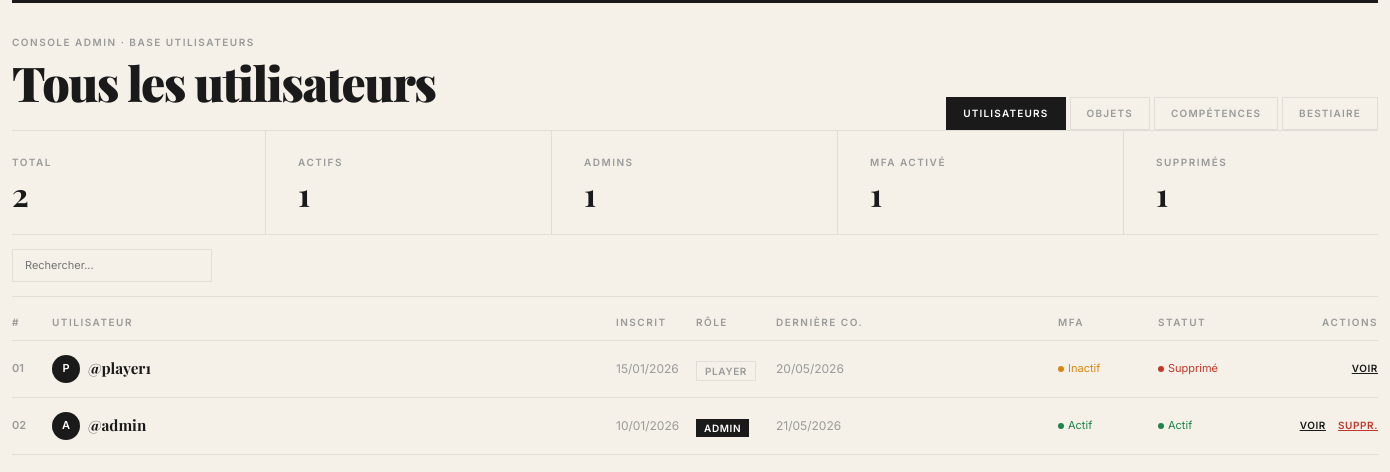
AdminUsersView › affiche 'Aucun résultat' quand le filtre ne matche rien
Type "ZZZZZ" into the field with placeholder "Rechercher..." at coordinates (112, 265), box x1=12 y1=249 x2=212 y2=282
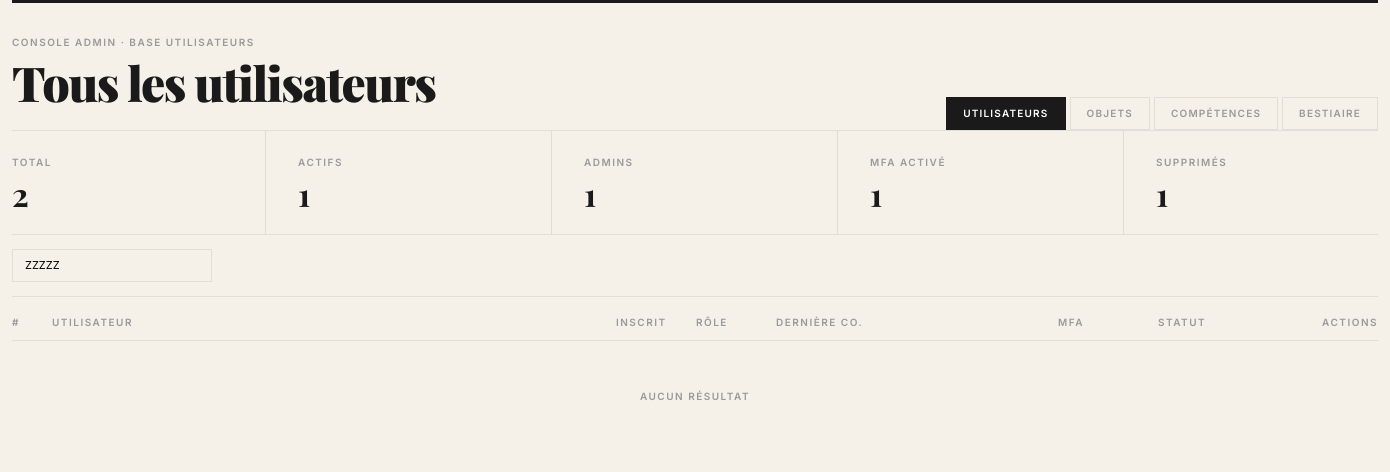
Result: the text "Aucun résultat" is shown at x1=640 y1=390 x2=750 y2=402
